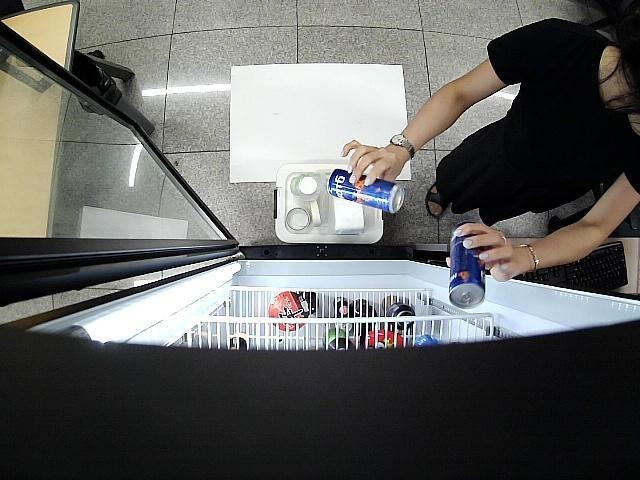16_hot6: (328, 168, 406, 214), (449, 231, 487, 310)
